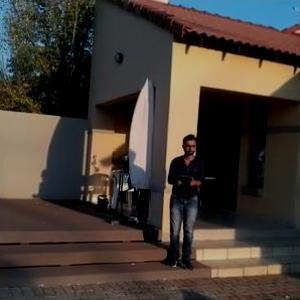follow: (162, 130, 209, 274)
